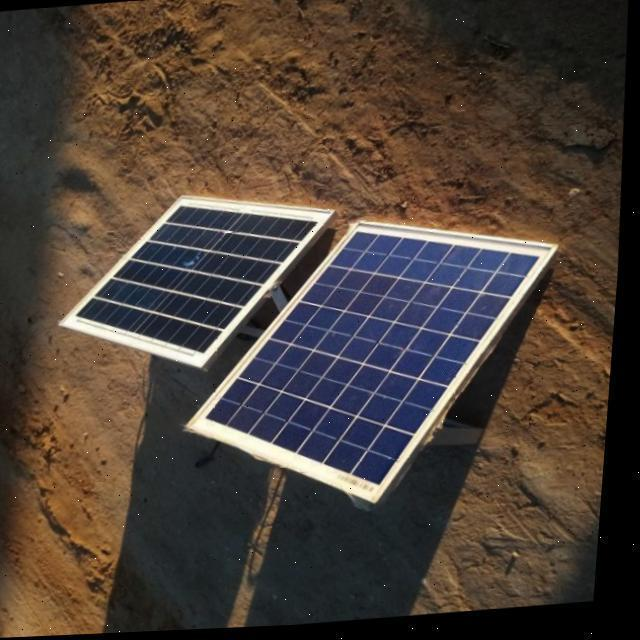Normal Solar Panel: (180, 209, 571, 522), (55, 186, 344, 379)
